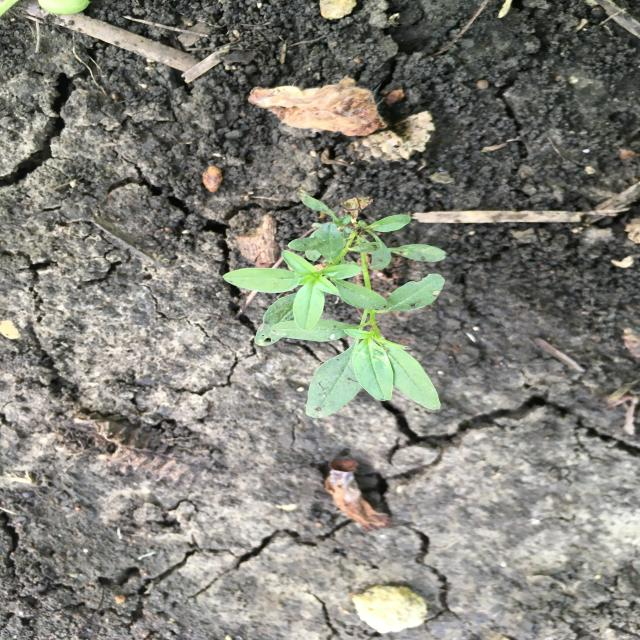Waterhemp: (220, 189, 448, 420)
